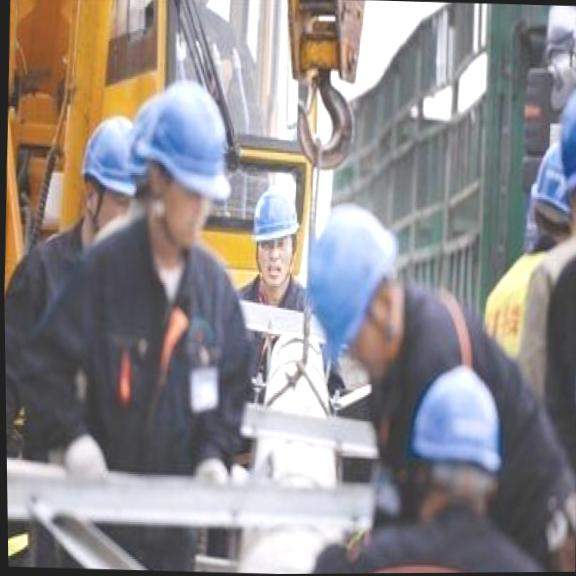no_safety_vest: (365, 273, 565, 538), (68, 209, 253, 481), (3, 205, 138, 435), (301, 502, 570, 574), (507, 226, 576, 477), (226, 275, 316, 383)
